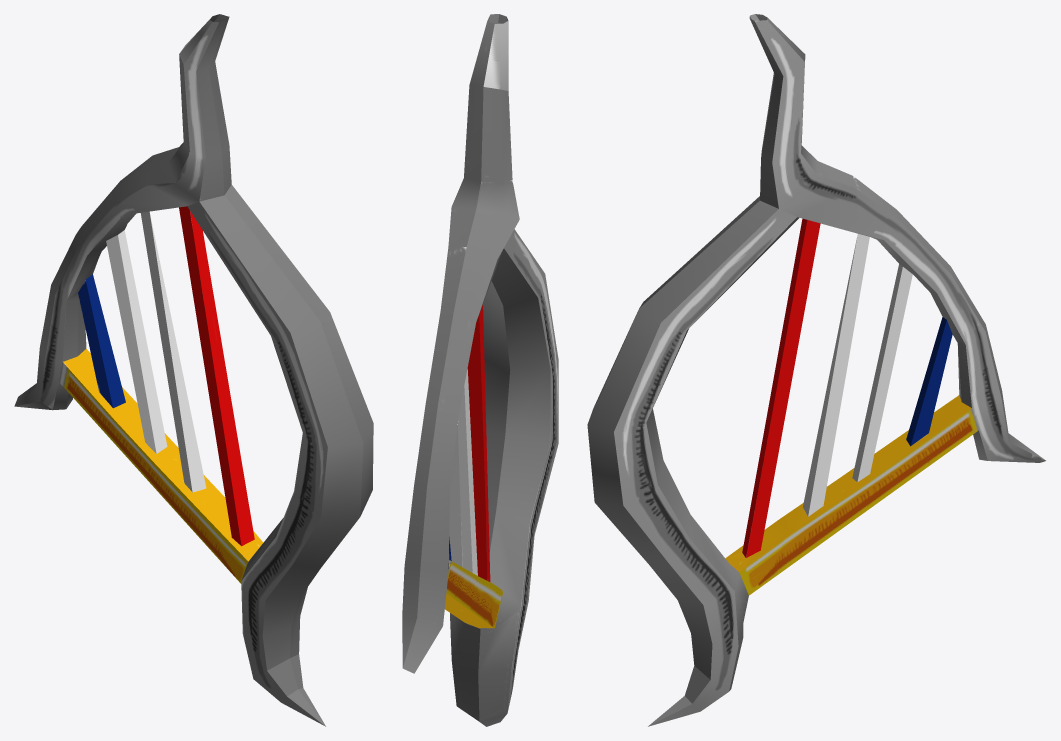
Rendered from Arpa1_000014.obj.
3 renders of one model, left to right at view 1: azimuth 30°, elevation 25°; view 2: azimuth 150°, elevation 25°; view 3: azimuth 270°, elevation 25°, orthographic. The views are drawn at different scales.
Parts seen in each view (by area): view 1: a1_pCube7.001; view 2: a1_pCube7.001; view 3: a1_pCube7.001.
Part boxes in pixels (left/top/right/bottom): a1_pCube7.001: left=14, top=14, right=373, bottom=726; a1_pCube7.001: left=402, top=14, right=558, bottom=726; a1_pCube7.001: left=587, top=14, right=1045, bottom=726.
Bounding box in the file's own units: 2.45 × 10.56 × 6.42.
